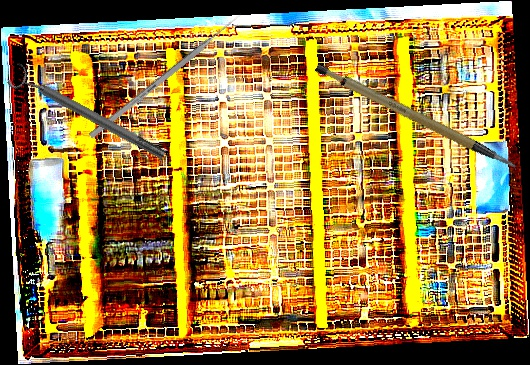Fixation Ring: (6, 60, 170, 169)
Pusher: (88, 11, 244, 140)
Scalpel Handle: (312, 38, 518, 200)
